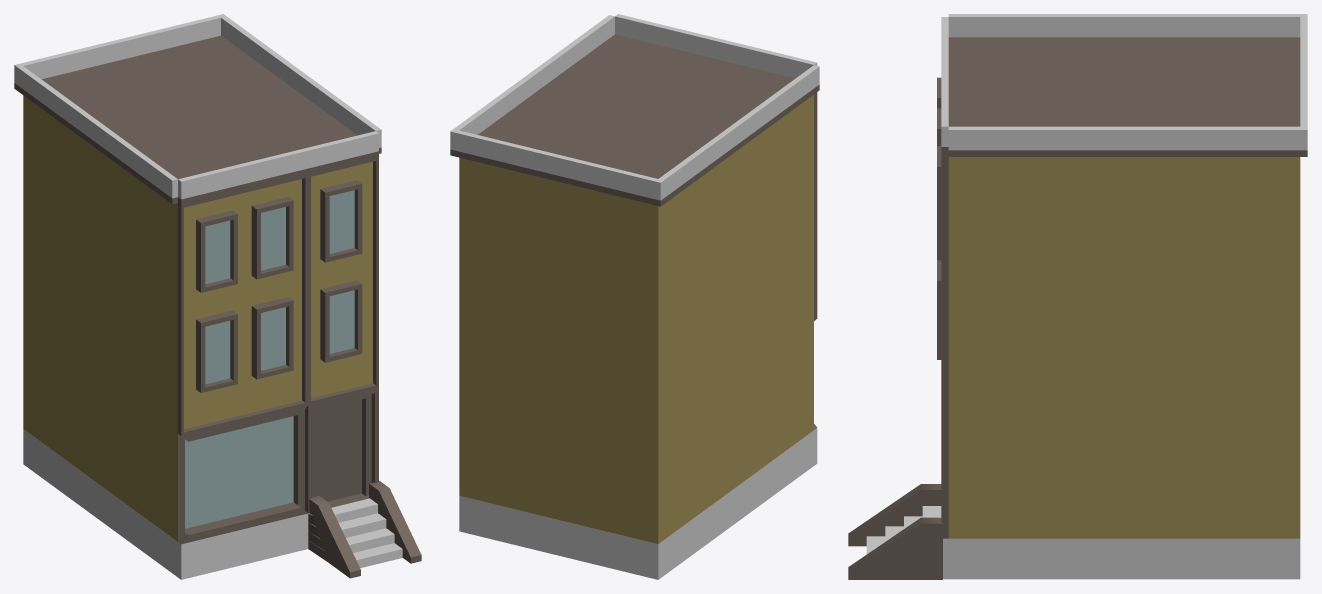
File: shop2medium.fbx
3 views of the same model, side by side, from view 1: azimuth 30°, elevation 25°; view 2: azimuth 150°, elevation 25°; view 3: azimuth 270°, elevation 25° (orthographic). The views are drawn at different scales.
Visible parts, largest first — view 1: pCube7, pCube6, pCube5, pCube9, pCube8, pCube4, pCube10, pCube3, pCube2; view 2: pCube7; view 3: pCube7, pCube2, pCube3.
Boxes of the visible parts, bbox=[...] form: pCube7: bbox=[14, 14, 402, 579]; pCube6: bbox=[320, 280, 362, 362]; pCube5: bbox=[251, 297, 293, 379]; pCube9: bbox=[251, 197, 293, 279]; pCube8: bbox=[320, 180, 362, 262]; pCube4: bbox=[196, 310, 237, 392]; pCube10: bbox=[196, 210, 237, 292]; pCube3: bbox=[309, 496, 360, 578]; pCube2: bbox=[369, 481, 421, 563]; pCube7: bbox=[450, 14, 819, 579]; pCube7: bbox=[866, 14, 1307, 579]; pCube2: bbox=[848, 517, 942, 579]; pCube3: bbox=[848, 484, 941, 546].
Size of the model in its own units: 14.75 by 26.85 by 24.7.
